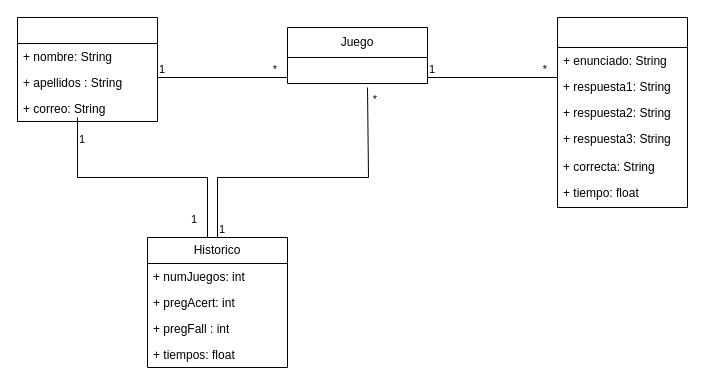
Image size: 705x388. Some labels were removed from this diagram. The box of each missing label's shape, as (x1, y1, x2, y2) in pixels:
Pregunta: (556, 16, 688, 208)
Usuario: (16, 16, 158, 122)
